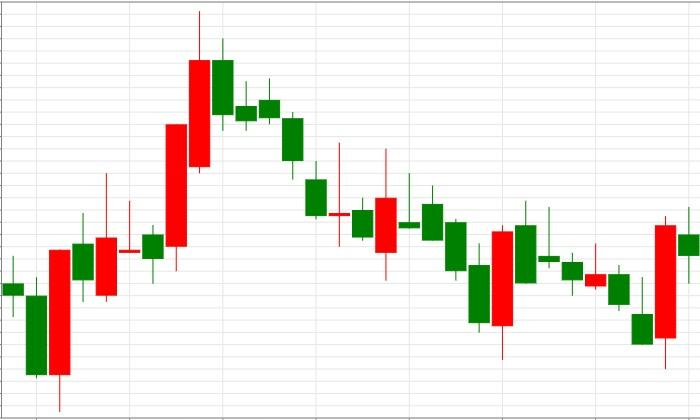bullish_engulfing_rise: (212, 38, 396, 281), (538, 206, 676, 369), (398, 172, 514, 361)
